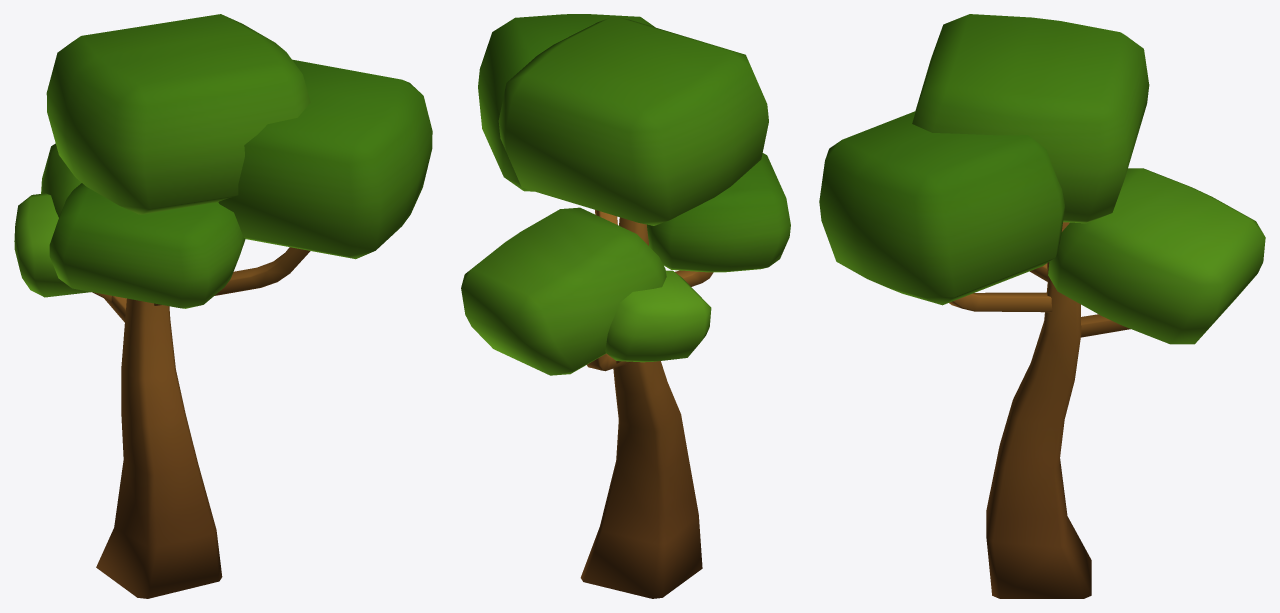
The model's file is Tree_1_4.glb.
The picture shows the model from 3 angles, left to right: view 1: azimuth 30°, elevation 25°; view 2: azimuth 150°, elevation 25°; view 3: azimuth 270°, elevation 25°; orthographic projection. The views are drawn at different scales.
Parts seen in each view (by area): view 1: Tree_1_4; view 2: Tree_1_4; view 3: Tree_1_4.
Boxes of the visible parts, x1=… form: Tree_1_4: x1=14, y1=14, x2=432, y2=598; Tree_1_4: x1=461, y1=14, x2=790, y2=598; Tree_1_4: x1=819, y1=14, x2=1265, y2=598.
Size of the model in its own units: 2.51 by 3.71 by 2.8.
1 material, 1 textured.
